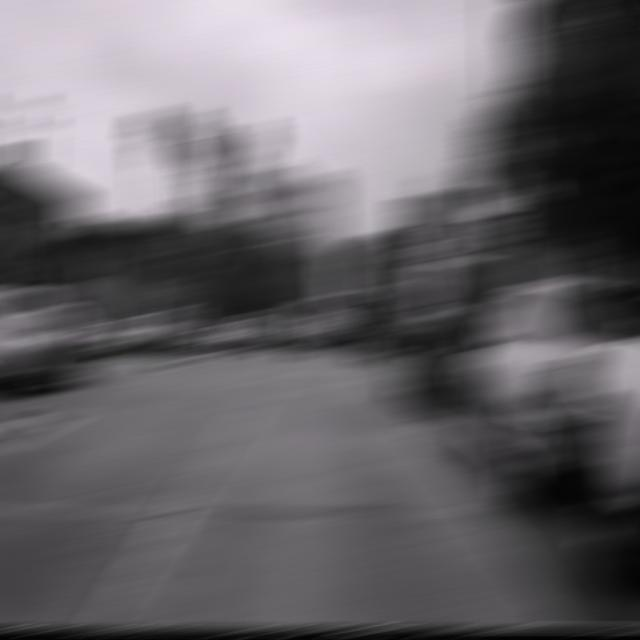speedLimit35: (464, 131, 505, 180), (170, 216, 206, 250)
